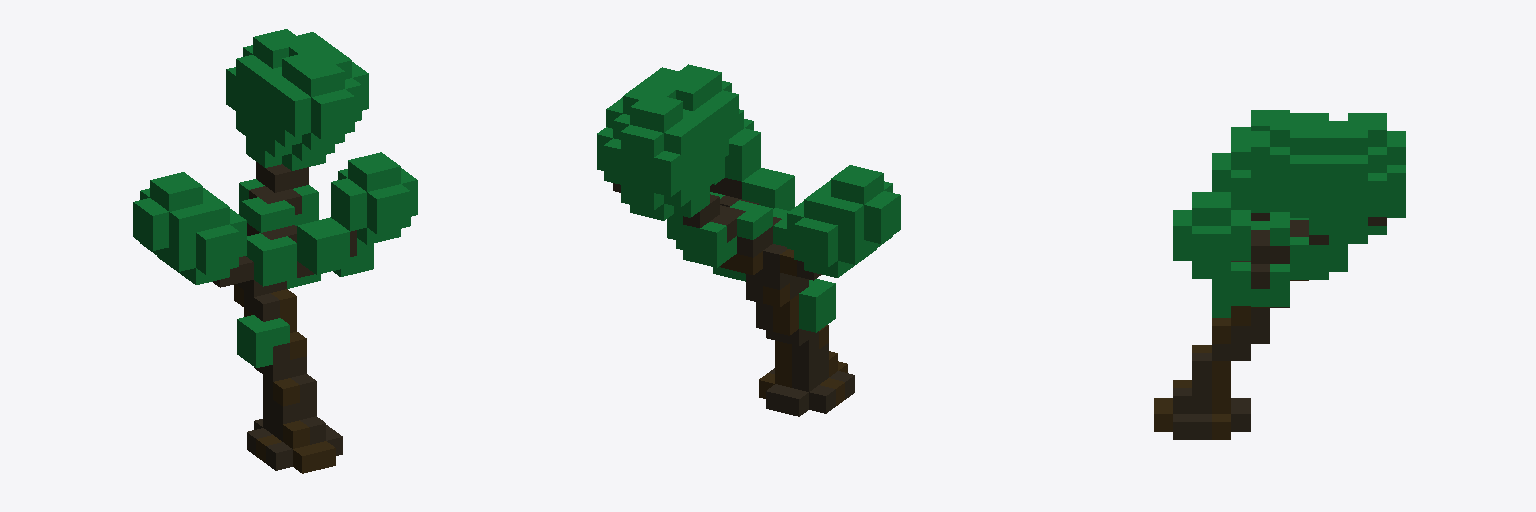
3 views of the same model, side by side, from view 1: azimuth 30°, elevation 25°; view 2: azimuth 150°, elevation 25°; view 3: azimuth 270°, elevation 25° (orthographic).
Visible parts, largest first — view 1: big-tree; view 2: big-tree; view 3: big-tree.
Part boxes in pixels (bbox=[...]): big-tree: bbox=[133, 29, 417, 473]; big-tree: bbox=[597, 64, 900, 416]; big-tree: bbox=[1154, 110, 1405, 439].
Bounding box in the file's own units: 14 × 19 × 13.
Materials: 1 (1 with a texture image).